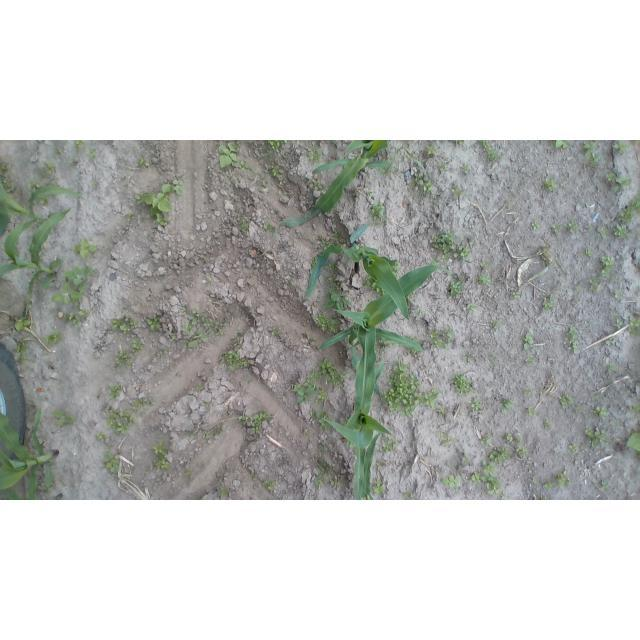Maize: (312, 263, 453, 410), (299, 216, 413, 324), (321, 353, 393, 500), (277, 140, 394, 230), (0, 206, 76, 325), (0, 402, 62, 500), (1, 173, 92, 236), (357, 430, 386, 500)
Weeds: (383, 357, 426, 420), (181, 309, 229, 349), (429, 228, 457, 264), (319, 359, 349, 390), (143, 190, 174, 219), (106, 408, 136, 436), (220, 346, 250, 374), (324, 286, 353, 311), (314, 312, 343, 337), (53, 285, 84, 308), (217, 141, 242, 169), (62, 267, 97, 287), (407, 172, 434, 197), (151, 439, 172, 471), (112, 315, 141, 338), (314, 459, 335, 490), (428, 326, 454, 351), (72, 238, 97, 263), (450, 373, 476, 395), (104, 444, 123, 474), (110, 348, 134, 371), (250, 411, 272, 436), (310, 409, 334, 431), (161, 178, 185, 198), (201, 423, 226, 441), (369, 203, 386, 229), (295, 384, 316, 405), (363, 276, 385, 296), (54, 409, 78, 427), (424, 387, 442, 410), (38, 158, 59, 177), (131, 397, 160, 410), (595, 428, 612, 450), (585, 150, 604, 169), (46, 329, 65, 348), (13, 338, 28, 362), (449, 276, 466, 297), (489, 446, 510, 463), (305, 176, 328, 191), (13, 315, 31, 333), (618, 207, 635, 226), (307, 147, 326, 164), (145, 317, 164, 334), (1, 178, 20, 195), (314, 386, 330, 406), (625, 431, 640, 452), (379, 439, 401, 453), (262, 476, 279, 494), (521, 332, 537, 351), (614, 176, 633, 192), (541, 292, 556, 312), (306, 369, 323, 386), (332, 230, 349, 247), (267, 164, 284, 181), (130, 338, 147, 355), (455, 244, 471, 262), (478, 458, 496, 474), (108, 382, 124, 400), (258, 219, 278, 233), (474, 274, 495, 287), (554, 472, 570, 489), (372, 478, 387, 496), (486, 149, 504, 164), (484, 484, 506, 496), (265, 140, 287, 152), (481, 474, 501, 487), (588, 407, 608, 420), (558, 396, 574, 412), (512, 445, 529, 460), (628, 316, 640, 337), (86, 147, 99, 166), (629, 194, 640, 216), (584, 428, 596, 448), (542, 177, 559, 191), (612, 140, 629, 154), (152, 213, 169, 227), (63, 313, 81, 326), (614, 224, 629, 239), (604, 171, 619, 186), (217, 486, 234, 499), (442, 476, 462, 487), (135, 193, 149, 208), (501, 398, 514, 414), (399, 489, 417, 500), (248, 471, 263, 484), (319, 441, 332, 456), (318, 235, 331, 250), (135, 155, 150, 168), (566, 221, 580, 234), (541, 417, 556, 429), (26, 181, 42, 192), (582, 141, 599, 151), (470, 400, 483, 413), (193, 381, 206, 394), (329, 475, 341, 489), (525, 406, 539, 418), (531, 493, 555, 500), (601, 256, 615, 268), (51, 146, 65, 158), (571, 340, 582, 355), (379, 337, 395, 347), (554, 140, 570, 150), (0, 157, 10, 173), (465, 301, 478, 313), (468, 472, 481, 484), (426, 144, 439, 156), (568, 328, 581, 340), (479, 437, 493, 448), (95, 430, 107, 442), (437, 161, 449, 173), (509, 289, 522, 300), (461, 452, 472, 465), (600, 229, 613, 240), (341, 439, 355, 449), (580, 246, 594, 256), (77, 309, 91, 319), (240, 219, 249, 234), (238, 413, 249, 425), (477, 260, 489, 271), (569, 442, 580, 454), (530, 221, 542, 232), (460, 164, 471, 176), (167, 330, 178, 342), (159, 348, 171, 359), (183, 465, 194, 477), (237, 161, 249, 172), (270, 324, 281, 336), (285, 277, 296, 289), (605, 363, 618, 373), (74, 140, 87, 150), (523, 387, 534, 398), (326, 275, 337, 286), (613, 319, 624, 330), (491, 319, 501, 331), (374, 459, 386, 469), (258, 178, 270, 188), (306, 256, 318, 266), (454, 186, 463, 199), (629, 403, 640, 413), (480, 140, 491, 150), (326, 261, 336, 272), (90, 178, 100, 189), (462, 354, 474, 363), (126, 211, 135, 223), (230, 337, 242, 346), (392, 264, 399, 279), (543, 481, 553, 491), (504, 433, 513, 444), (514, 433, 523, 444), (605, 340, 616, 349), (602, 266, 613, 275), (550, 224, 561, 233), (119, 172, 130, 181), (430, 258, 440, 267), (406, 294, 415, 304), (416, 308, 426, 317), (525, 356, 535, 365), (180, 303, 189, 313), (594, 392, 603, 402), (236, 327, 245, 337), (205, 275, 215, 284), (365, 189, 373, 200), (601, 480, 610, 489), (72, 156, 81, 165), (437, 408, 447, 416), (438, 429, 446, 439), (613, 289, 623, 297), (590, 276, 600, 284), (203, 402, 213, 410), (38, 196, 48, 204), (531, 476, 540, 484), (575, 284, 584, 292), (208, 234, 216, 243), (375, 346, 382, 356), (591, 285, 602, 291), (586, 224, 594, 232), (407, 348, 417, 354), (444, 438, 451, 446), (577, 406, 584, 414), (610, 311, 618, 318), (456, 140, 465, 146), (610, 276, 617, 283), (411, 335, 419, 341), (563, 337, 569, 344), (597, 224, 603, 231), (443, 140, 450, 145)
